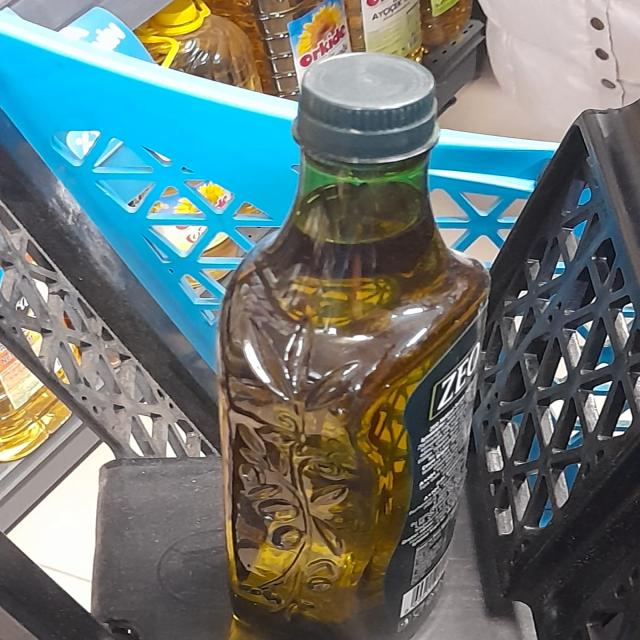olive oil: (167, 183, 549, 640)
